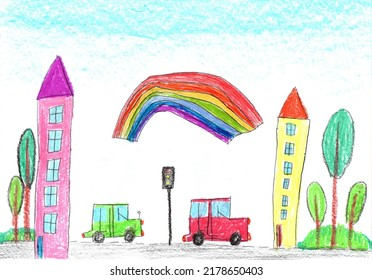building: (35, 54, 77, 259), (270, 84, 312, 248)
car: (179, 197, 254, 247), (77, 197, 146, 243)
rainbow: (110, 70, 264, 143)
tree: (320, 108, 355, 248), (15, 126, 36, 239), (345, 180, 368, 249), (305, 182, 328, 248), (4, 173, 23, 239)
